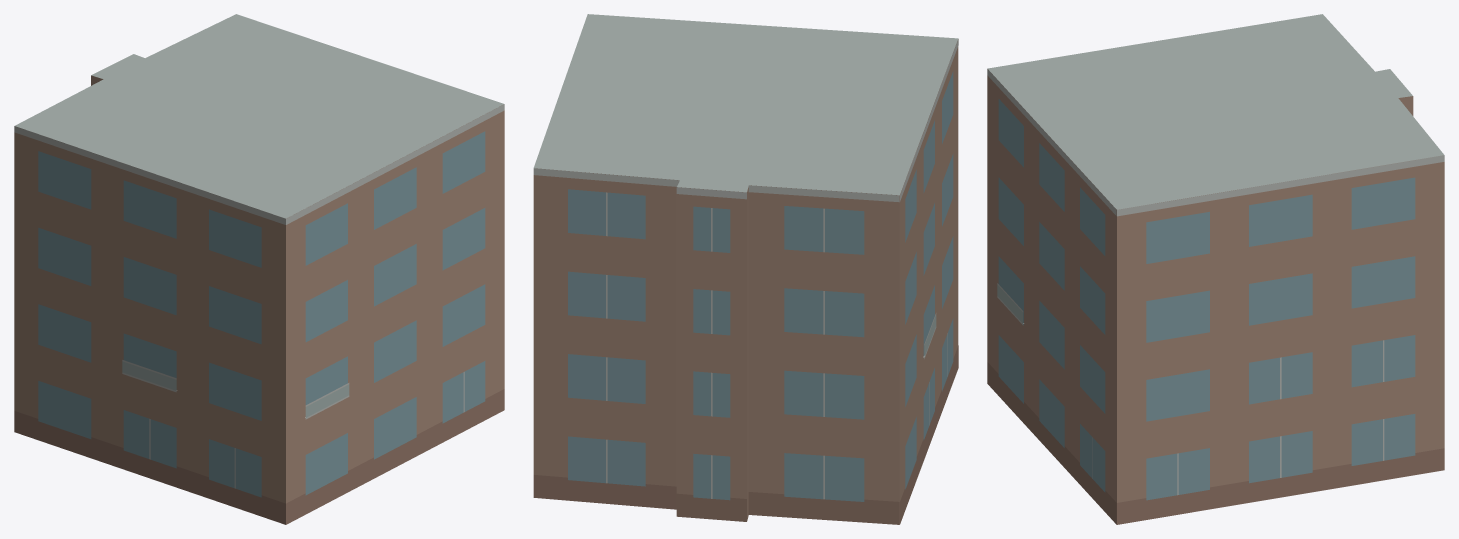
Rendered from survey-upis-32863558.glb.
3 renders of one model, left to right at view 1: azimuth 30°, elevation 25°; view 2: azimuth 150°, elevation 25°; view 3: azimuth 270°, elevation 25°, orthographic. The views are drawn at different scales.
Visible parts, largest first — view 1: survey-upis-32863558.tmp; view 2: survey-upis-32863558.tmp; view 3: survey-upis-32863558.tmp.
Part boxes in pixels (left/top/right/bottom): survey-upis-32863558.tmp: left=14, top=14, right=504, bottom=524; survey-upis-32863558.tmp: left=533, top=14, right=958, bottom=524; survey-upis-32863558.tmp: left=987, top=14, right=1444, bottom=524.
Size of the model in its own units: 15.47 by 11.6 by 15.27.
